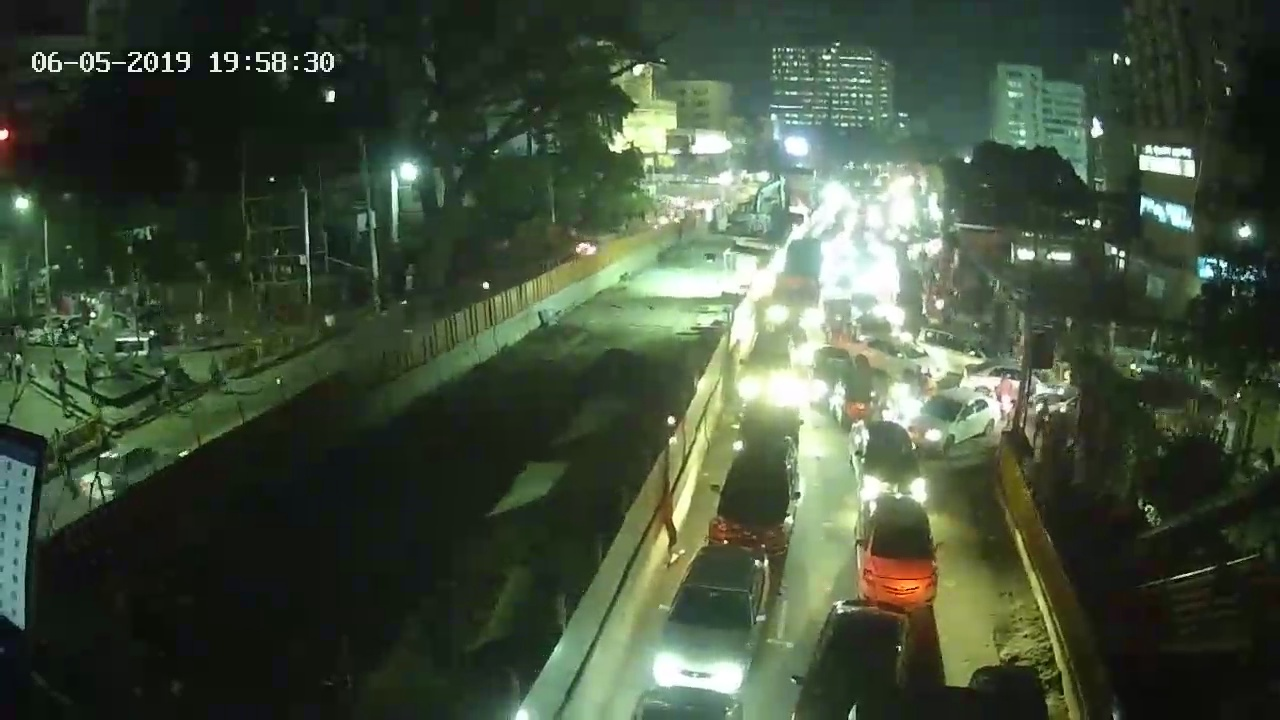fast_in: (654, 540, 779, 699), (791, 595, 913, 720), (697, 432, 819, 557), (845, 492, 945, 610), (844, 414, 935, 507), (900, 385, 1002, 458), (726, 375, 814, 457), (730, 323, 811, 406), (755, 263, 833, 337)
